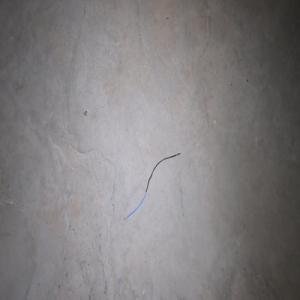Wire: (123, 152, 180, 220)
